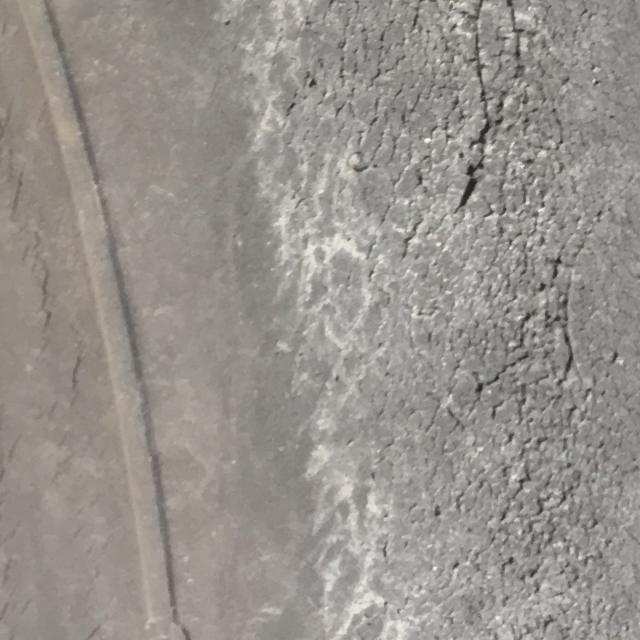Cracks: (269, 0, 639, 639), (1, 70, 133, 640)
